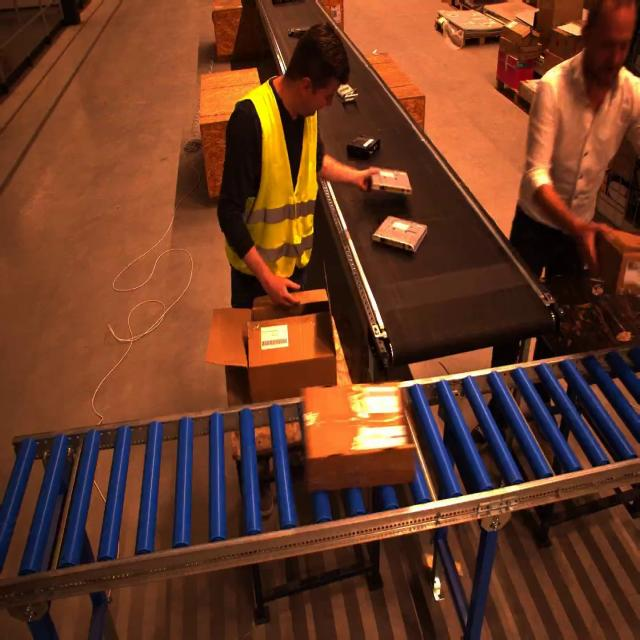box: (213, 299, 355, 400), (306, 382, 423, 488), (583, 219, 640, 305)
product: (373, 214, 427, 256), (367, 169, 416, 198), (348, 131, 383, 160), (334, 79, 362, 107), (288, 23, 325, 43)
